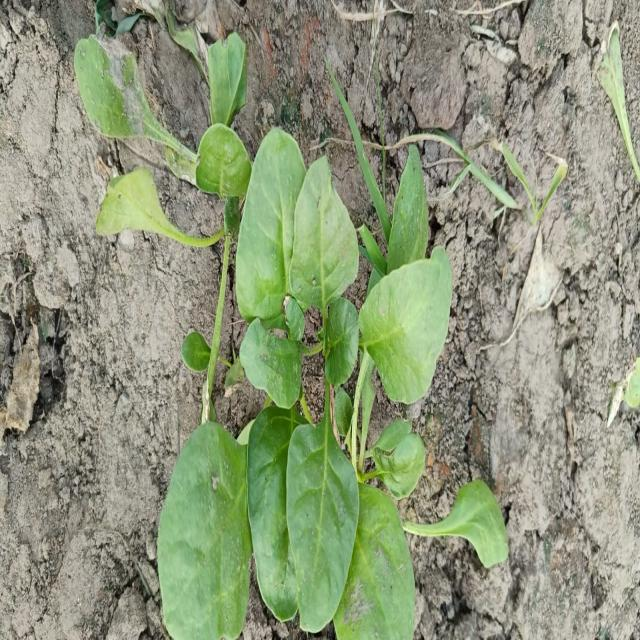plant: (74, 31, 452, 638), (411, 480, 509, 565)
